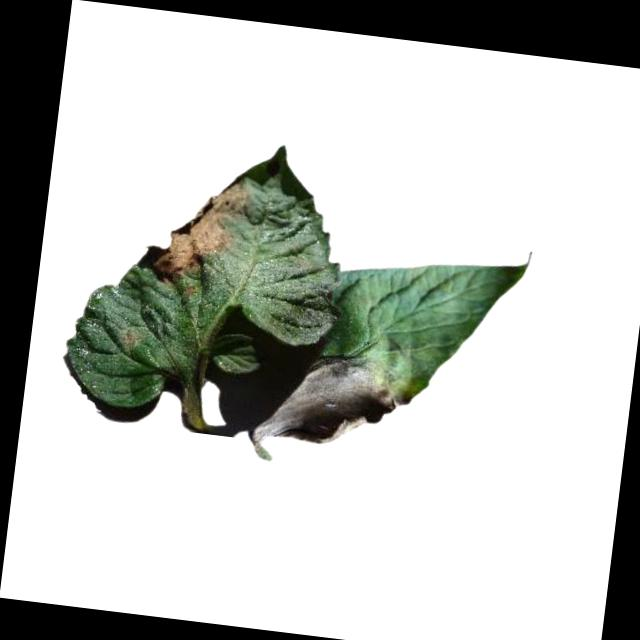Late_blight: (253, 347, 416, 453), (142, 165, 255, 293), (117, 324, 141, 350)
